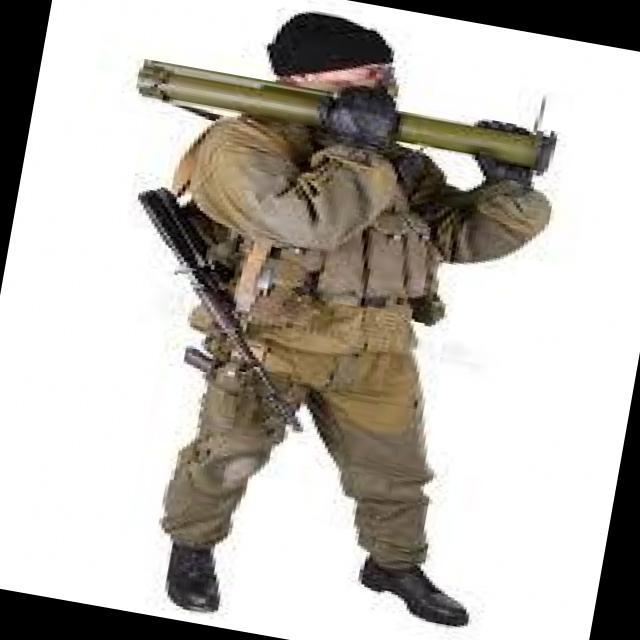rocket: (130, 54, 565, 194)
